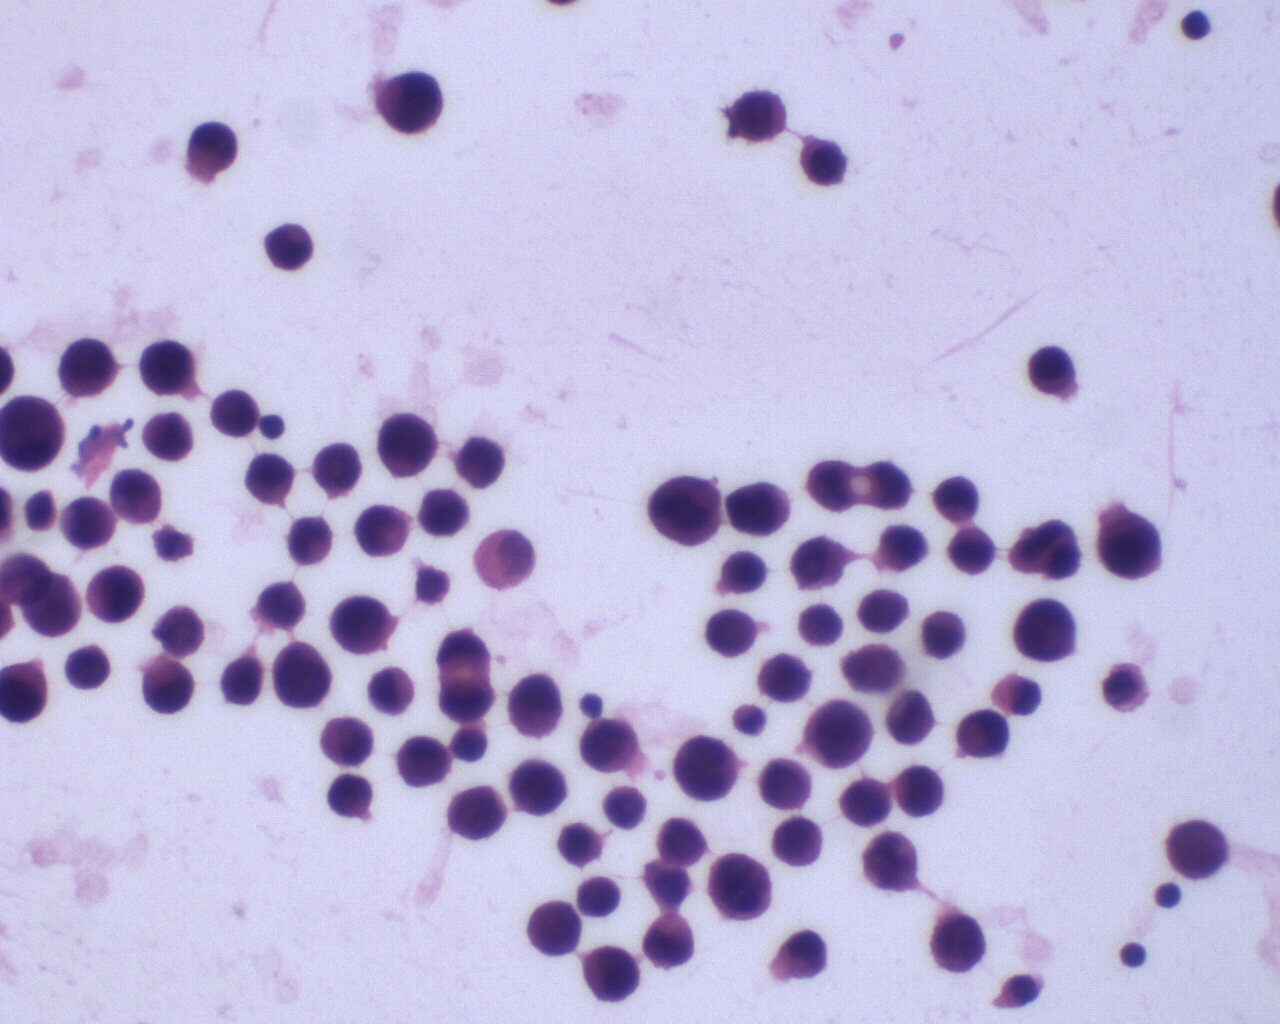ab: (648, 472, 726, 550), (801, 693, 875, 775), (1, 389, 68, 478), (1094, 508, 1164, 582), (670, 730, 740, 802), (374, 68, 446, 138), (371, 409, 439, 481), (271, 639, 336, 714), (137, 329, 205, 399), (856, 827, 924, 897), (1009, 597, 1078, 665), (709, 850, 773, 920), (1163, 817, 1230, 883), (326, 591, 393, 657), (85, 562, 148, 627), (508, 755, 571, 821), (55, 335, 117, 401), (576, 712, 639, 774), (146, 601, 213, 660), (723, 478, 791, 536), (580, 940, 641, 1005), (507, 672, 563, 741), (929, 911, 990, 975), (252, 575, 311, 639), (445, 783, 508, 843), (107, 464, 166, 528), (730, 88, 791, 148), (525, 897, 584, 958), (450, 432, 509, 494), (751, 650, 818, 704), (639, 913, 699, 974), (884, 684, 940, 748), (394, 734, 455, 792), (283, 508, 340, 571), (353, 503, 411, 563), (57, 495, 119, 552), (139, 656, 197, 715), (63, 638, 121, 697), (256, 217, 318, 273), (769, 815, 827, 872), (792, 532, 845, 594), (797, 131, 850, 191), (704, 607, 760, 664), (242, 451, 298, 508), (893, 765, 948, 822), (952, 707, 1010, 761), (416, 485, 471, 538), (309, 440, 363, 495), (854, 584, 910, 636), (757, 755, 808, 812), (208, 386, 259, 442), (140, 411, 196, 461), (920, 608, 970, 664), (656, 816, 709, 867), (841, 776, 892, 830), (1029, 344, 1079, 398), (930, 473, 980, 526), (947, 528, 997, 577), (720, 546, 769, 596), (324, 770, 372, 820), (602, 782, 649, 833), (556, 820, 601, 870)
lymph: (1176, 5, 1217, 43), (1155, 878, 1185, 911), (1116, 941, 1150, 970)
meso: (471, 521, 538, 596)
